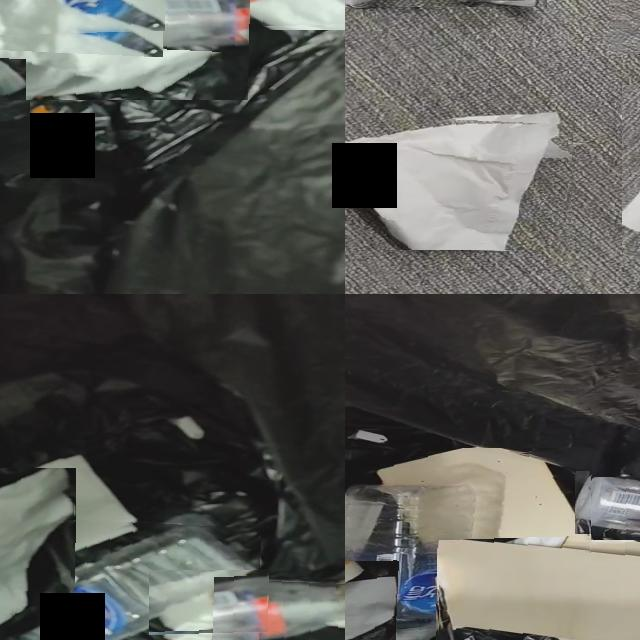bottle: (0, 524, 260, 640), (345, 487, 465, 640), (214, 581, 345, 640), (576, 477, 640, 535), (145, 0, 262, 30)
carton: (377, 448, 591, 565), (439, 542, 640, 640)
dixie_cup: (0, 487, 57, 542)
paper: (345, 122, 573, 250), (0, 0, 250, 100), (0, 456, 135, 554), (0, 468, 74, 626), (149, 570, 268, 634), (587, 530, 640, 552), (613, 541, 634, 546)
